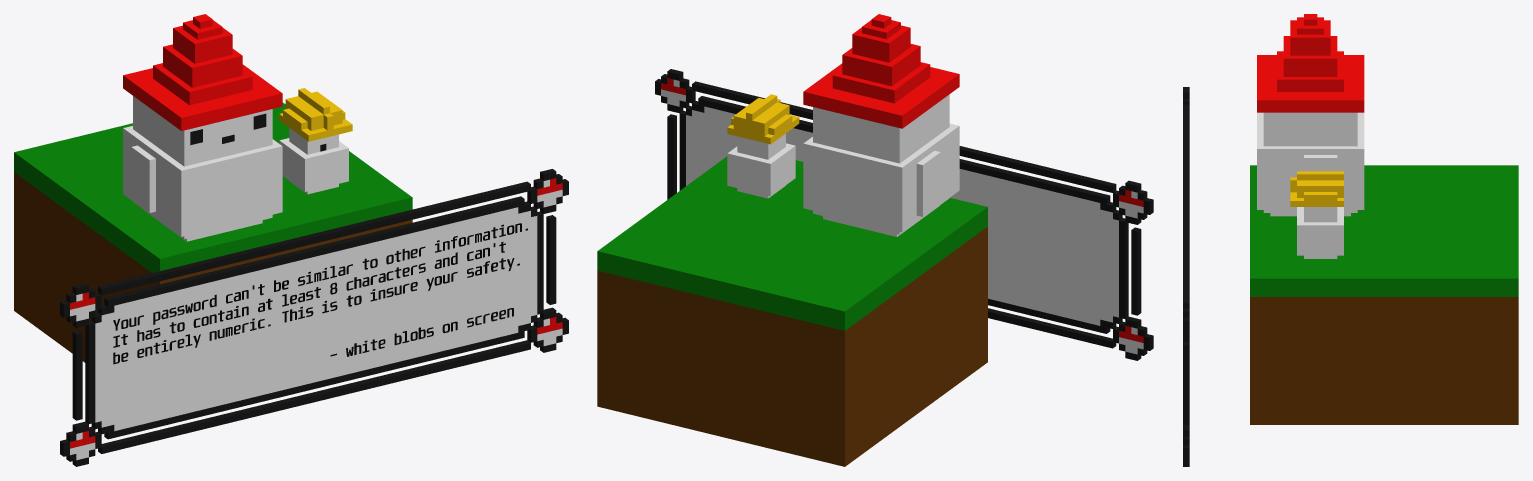
Rendered from login.glb.
3 views of the same model, side by side, from view 1: azimuth 30°, elevation 25°; view 2: azimuth 150°, elevation 25°; view 3: azimuth 270°, elevation 25° (orthographic). The views are drawn at different scales.
Parts seen in each view (by area): view 1: ObjObject, Text; view 2: ObjObject; view 3: ObjObject.
Boxes of the visible parts, x1,y1,x2,y2 form: ObjObject: (14,14,568,466); Text: (113,223,527,364); ObjObject: (597,14,1153,466); ObjObject: (1183,14,1518,466).
Bounding box in the file's own units: 8 × 5.4 × 5.01.
2 materials, 1 textured.
